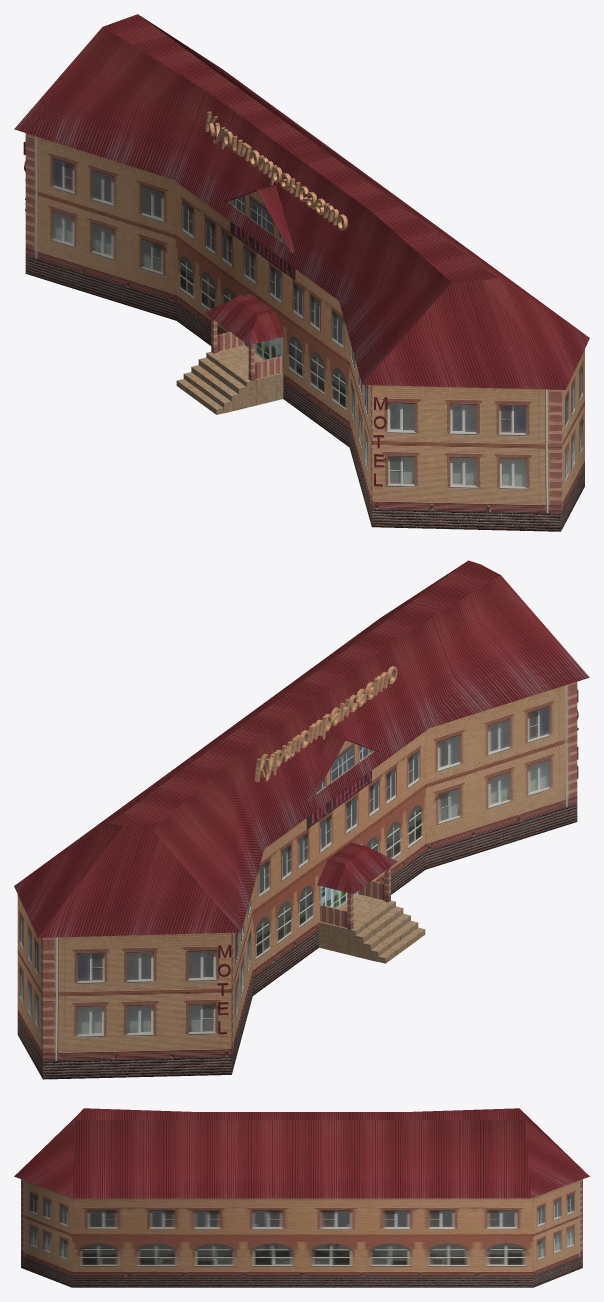
Rendered from r402_kr_yar_kurilotransavto.FBX.
The picture shows the model from 3 angles, top to bottom: view 1: azimuth 30°, elevation 25°; view 2: azimuth 150°, elevation 25°; view 3: azimuth 270°, elevation 25°; orthographic projection. The views are drawn at different scales.
Visible parts, largest first — view 1: r402_kr_yar_kurilotransavto; view 2: r402_kr_yar_kurilotransavto; view 3: r402_kr_yar_kurilotransavto.
Part boxes in pixels (bbox=[...]): r402_kr_yar_kurilotransavto: bbox=[14, 14, 589, 531]; r402_kr_yar_kurilotransavto: bbox=[14, 560, 589, 1079]; r402_kr_yar_kurilotransavto: bbox=[14, 1108, 589, 1287].
Bounding box in the file's own units: 1254 × 4580 × 1243.
